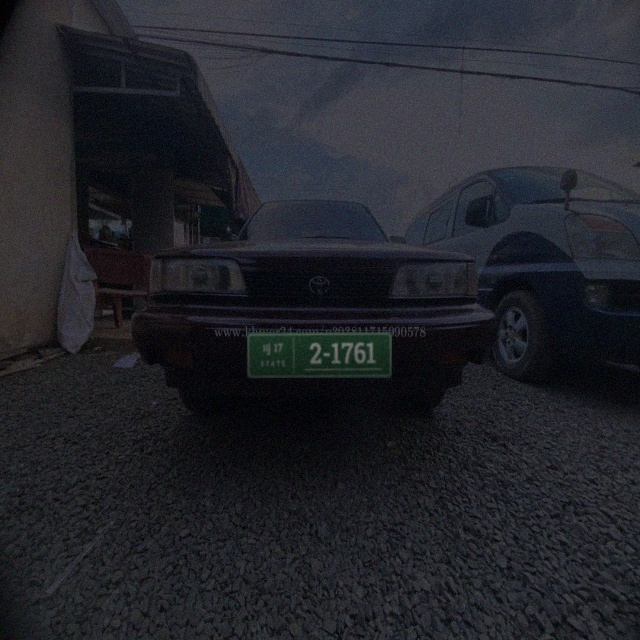Plate Number: (247, 332, 392, 378)
